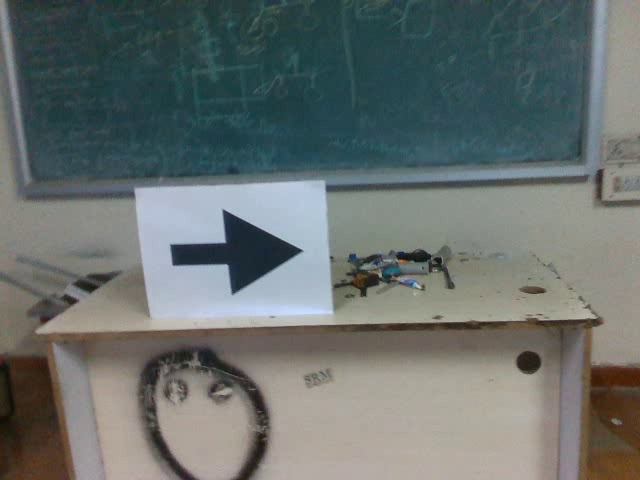Right: (160, 204, 309, 300)
